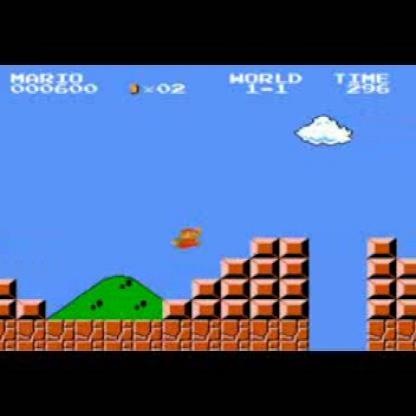Hoyo: (306, 319, 372, 351)
